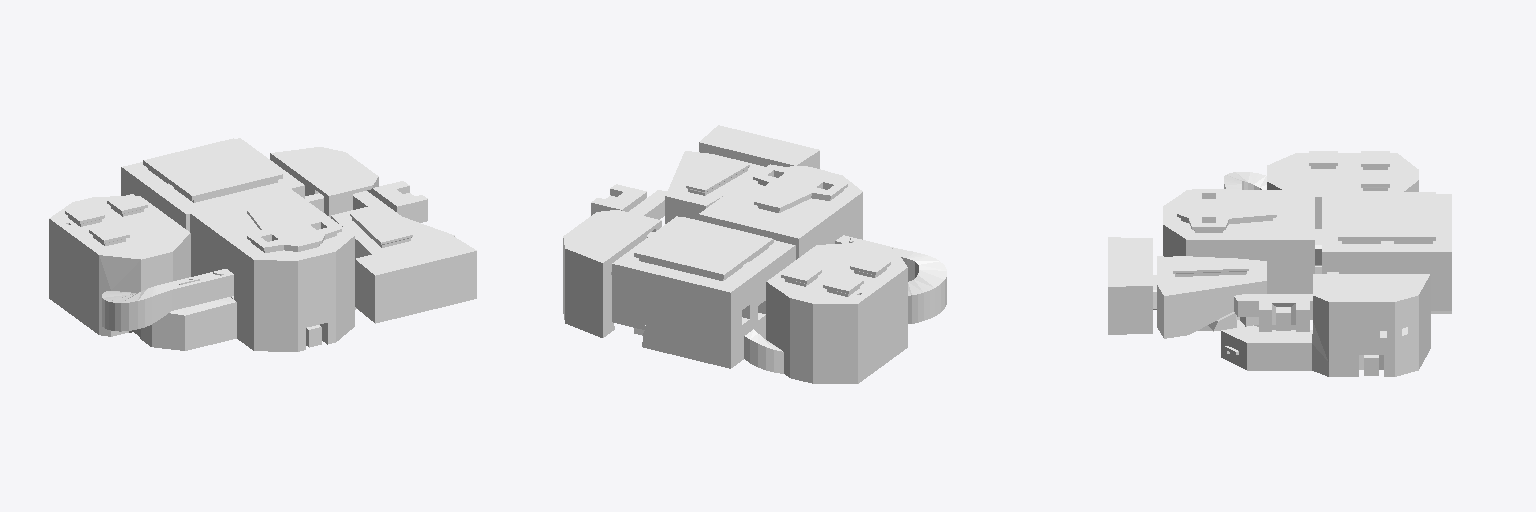
File: chillout.obj
3 views of the same model, side by side, from view 1: azimuth 30°, elevation 25°; view 2: azimuth 150°, elevation 25°; view 3: azimuth 270°, elevation 25° (orthographic).
Parts seen in each view (by area): view 1: -002, -004, -005, -000, -006, -003; view 2: -002, -000, -004, -006, -005, -008; view 3: -006, -004, -000, -005, -002, -001.
Part boxes in pixels (x1,y1,x2,y2): -002: (49,194,236,350); -004: (190,189,354,351); -005: (331,206,476,323); -000: (121,138,304,231); -006: (270,147,427,222); -003: (155,269,233,294); -002: (766,241,946,383); -000: (612,216,795,368); -004: (699,164,862,259); -006: (563,184,666,337); -005: (665,125,819,223); -008: (744,329,783,373); -006: (1234,272,1430,376); -004: (1163,189,1314,330); -000: (1315,192,1451,313); -005: (1108,237,1266,338); -002: (1224,151,1418,228); -001: (1221,320,1312,370).
Bounding box in the file's own units: 58.55 × 16.99 × 53.71.